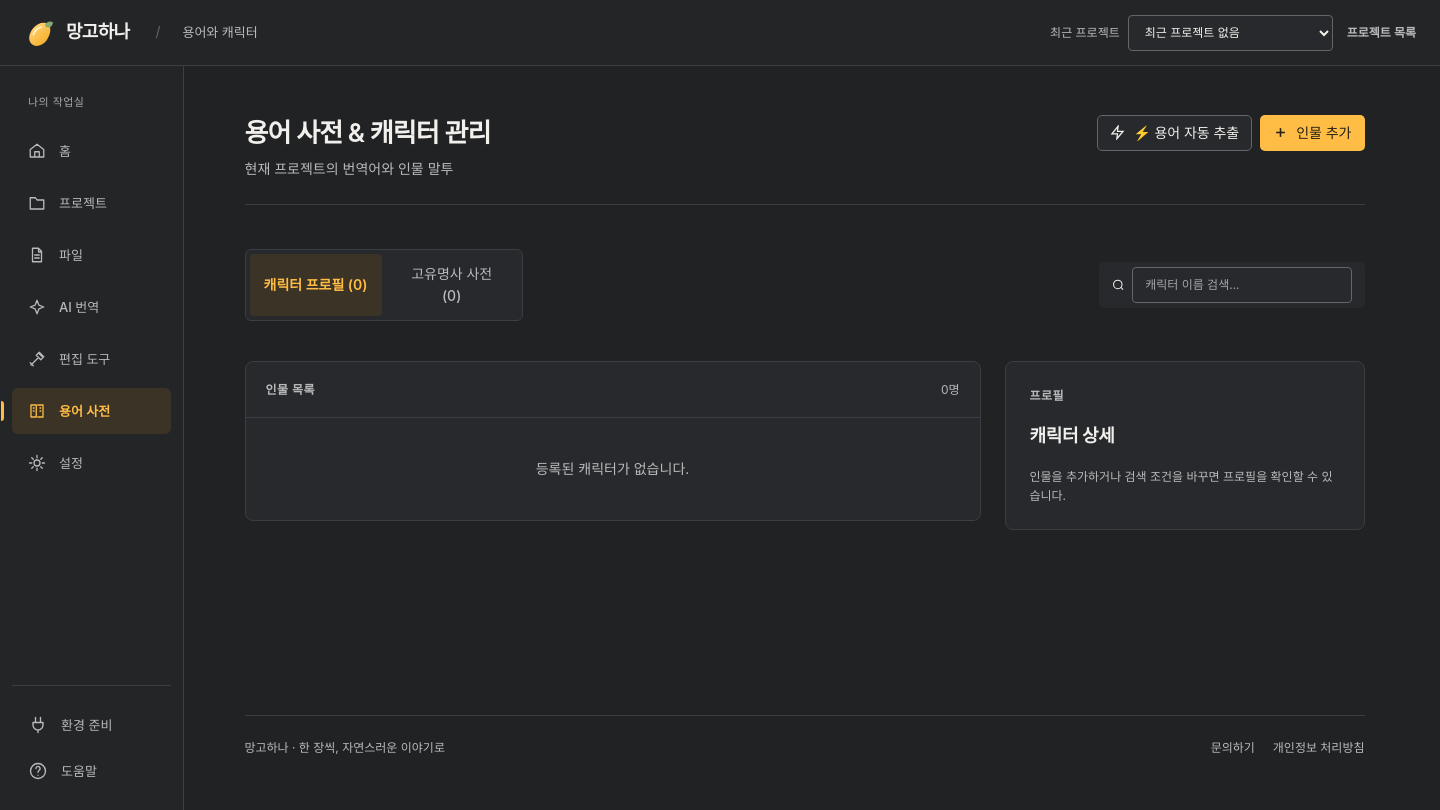
Test: DictionaryPage › switches to glossary terms table and adds a new term with category
This screenshot has width=1440, height=810.
Click the tab "고유명사 사전 (0)": (452,285) x1=386 y1=254 x2=518 y2=316
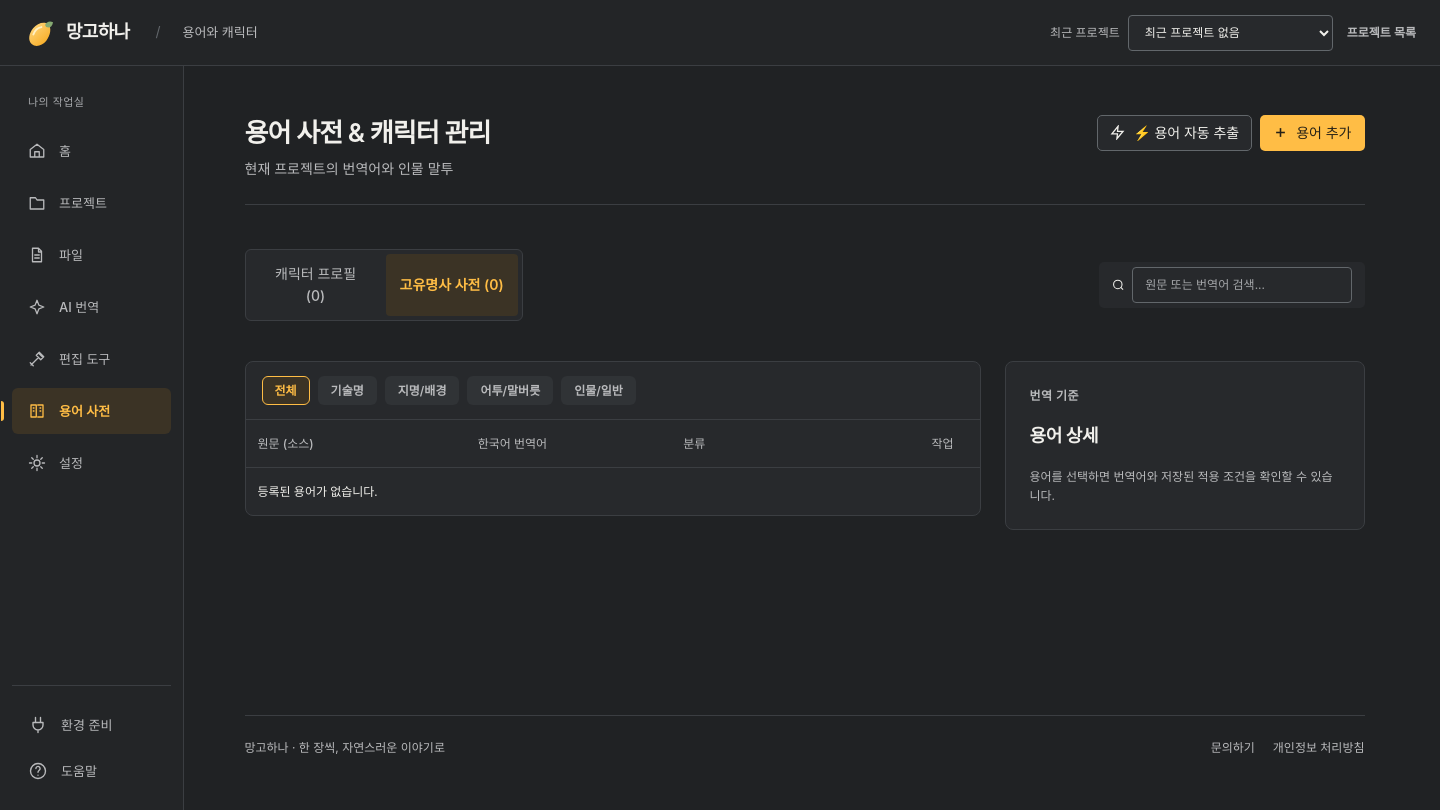
Click the button with aria-label "새 용어 추가": (1312,133) x1=1260 y1=115 x2=1364 y2=151
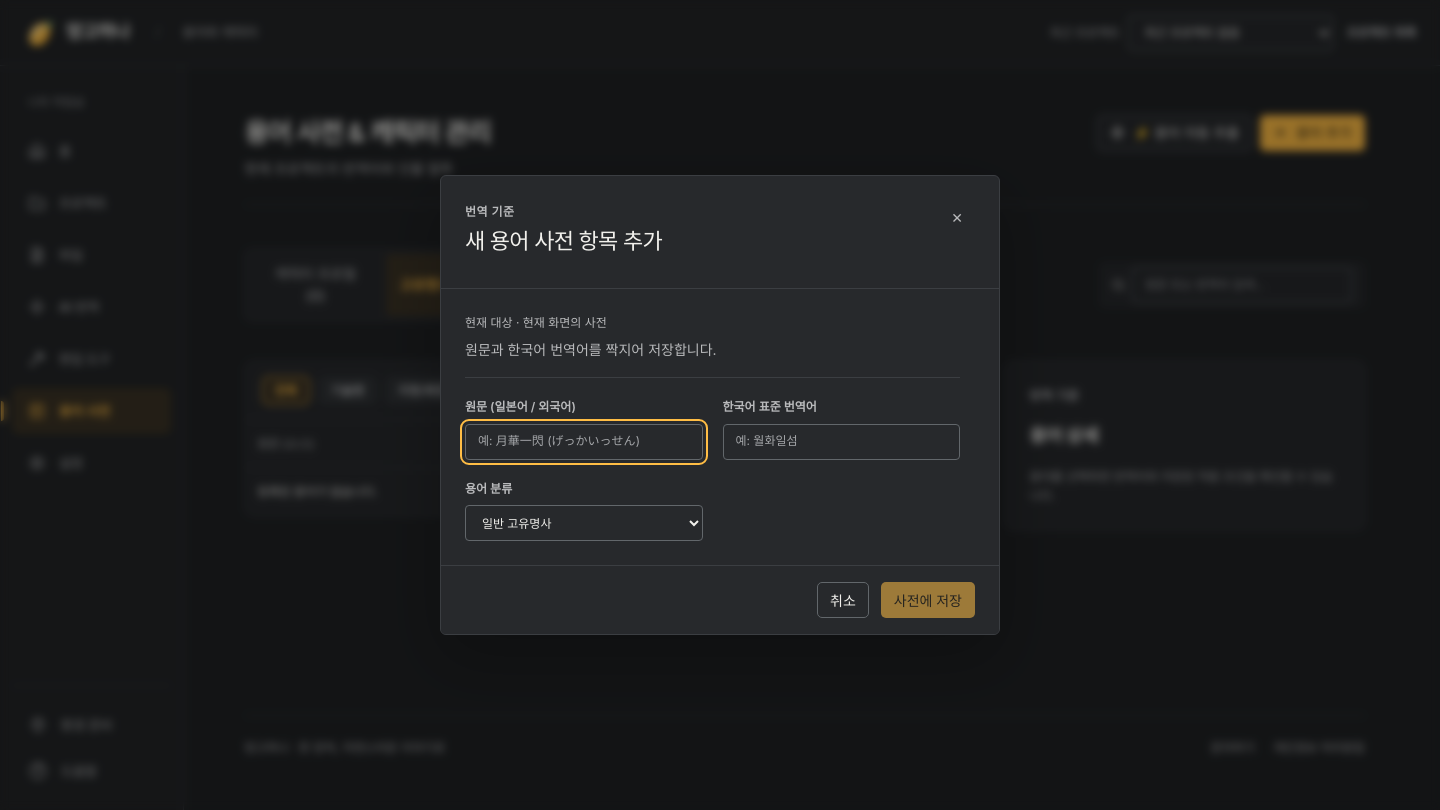
Expected: the dialog "새 용어 사전 항목 추가" is shown, x1=440 y1=175 x2=1000 y2=635
In the field with placeholder "예: 月華一閃 (げっかいっせん)": (584,442) x1=465 y1=424 x2=702 y2=460, type "魔王城"
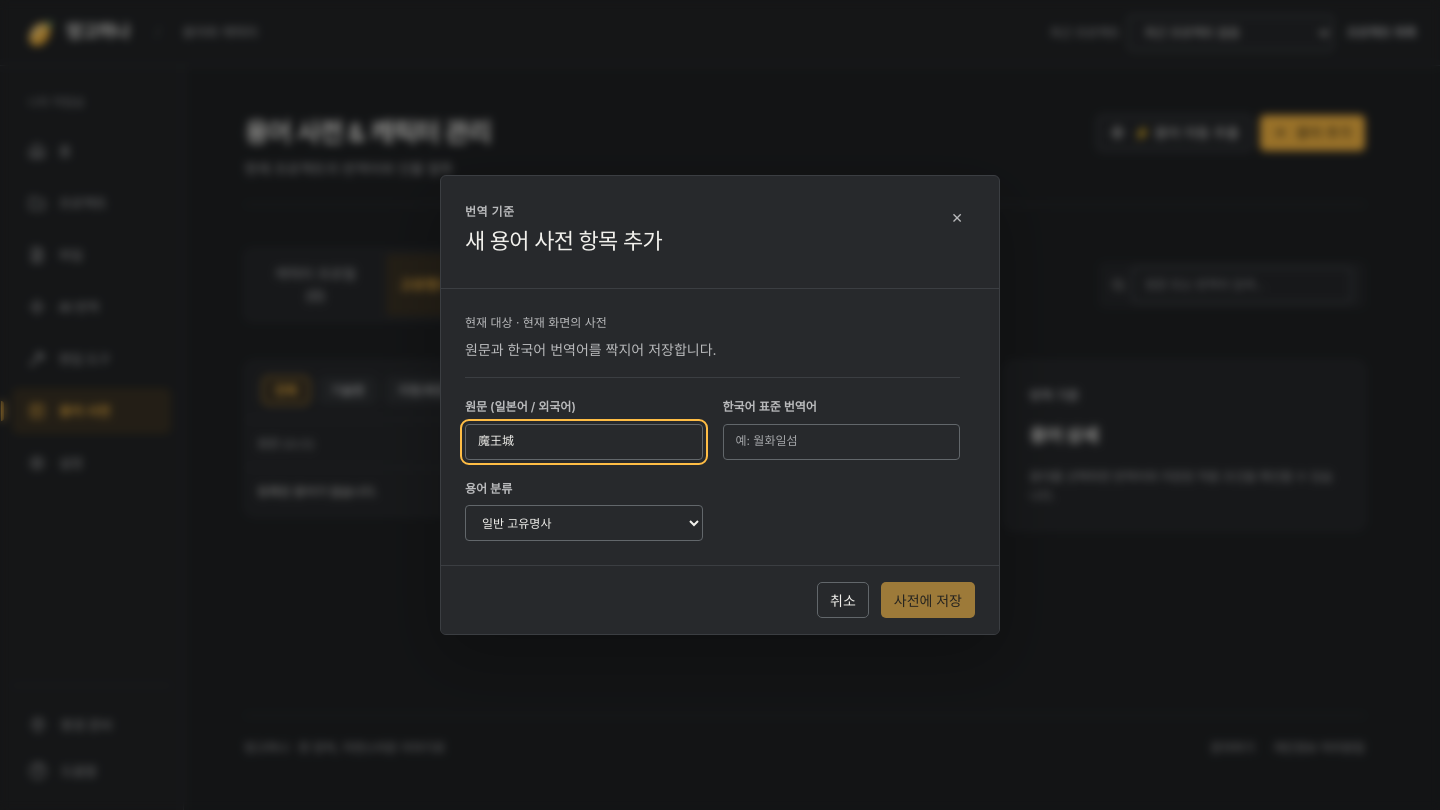
In the field with placeholder "예: 월화일섬": (841,442) x1=722 y1=424 x2=960 y2=460, type "마왕성"
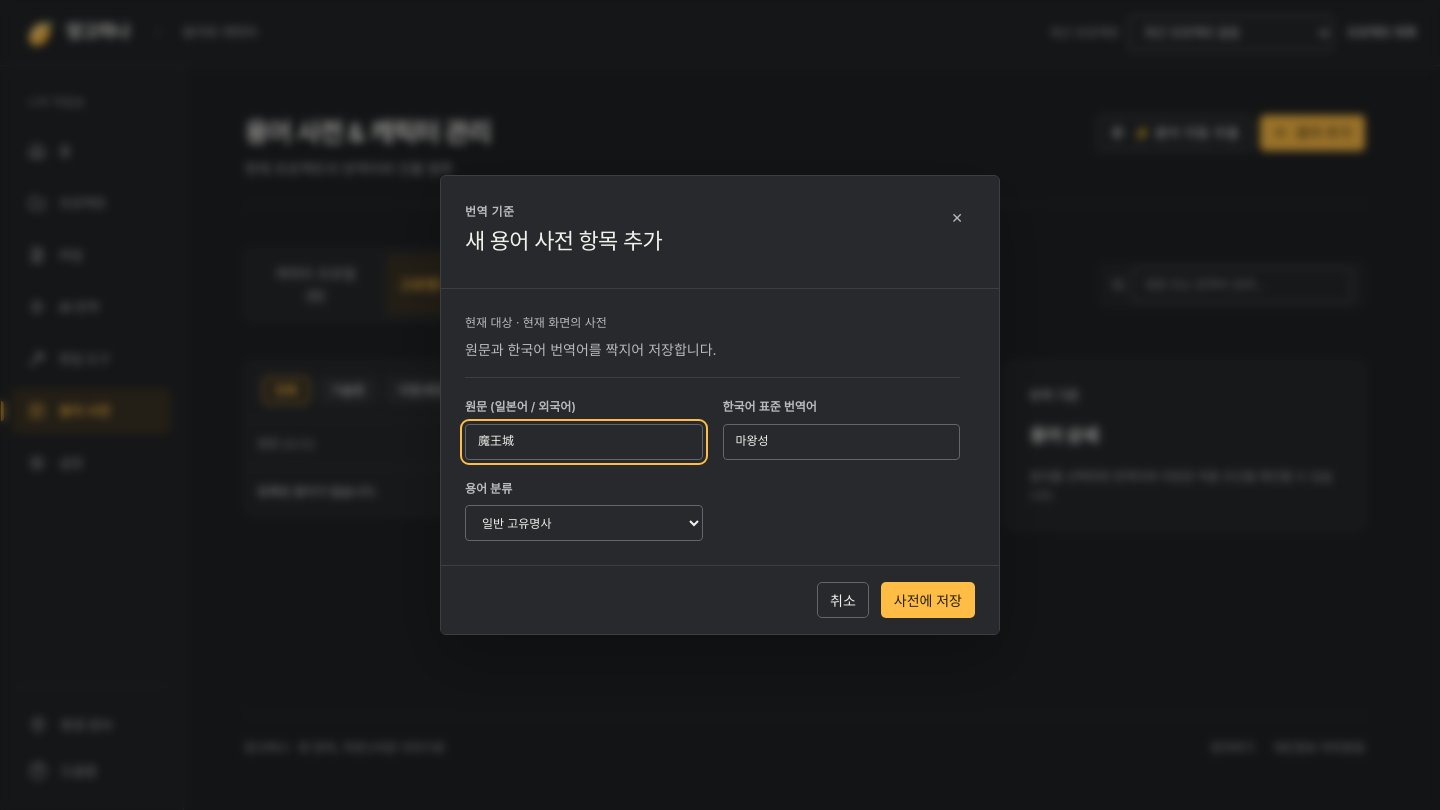
Click the button "사전에 저장": (928,600) x1=881 y1=582 x2=975 y2=618
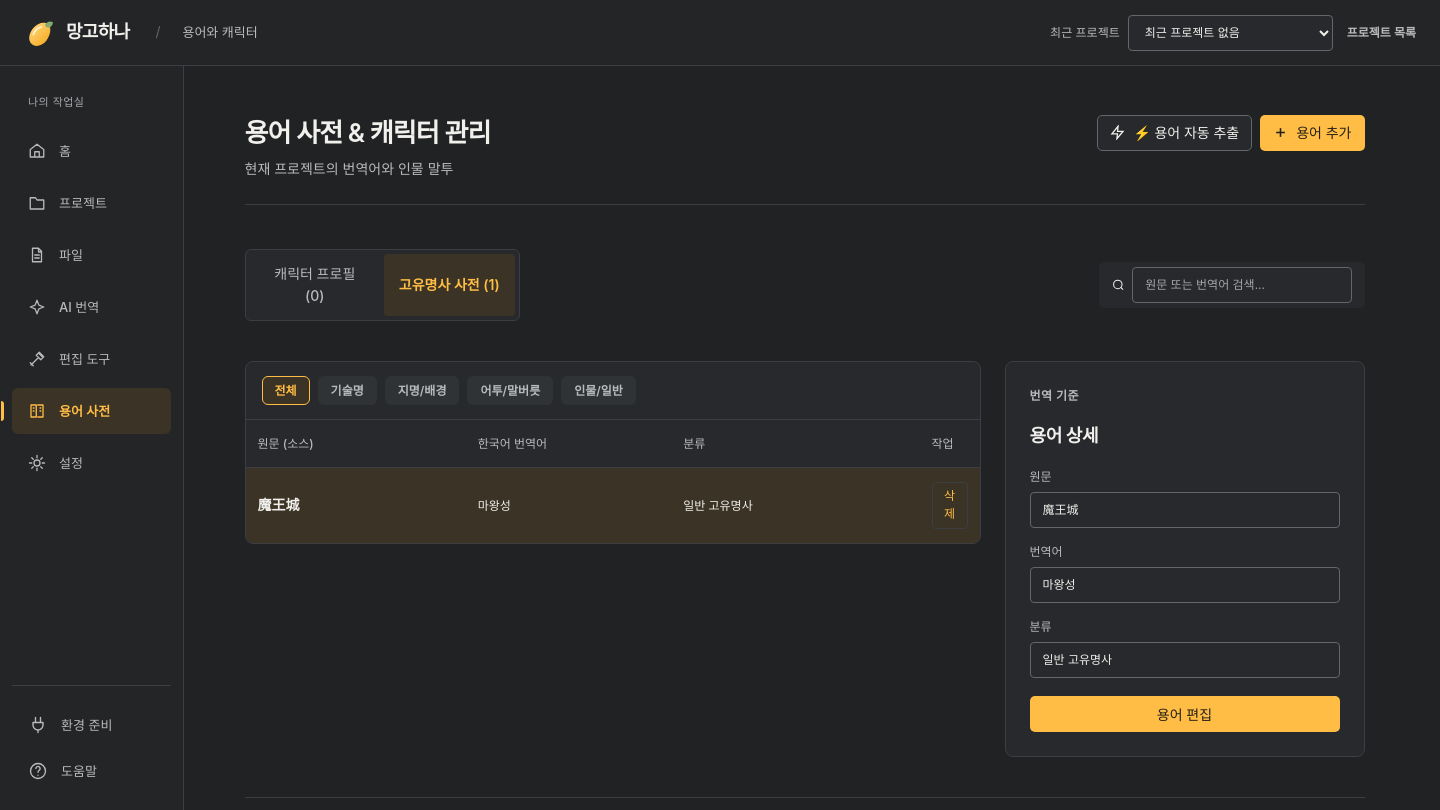
Expected: the dialog is gone
Expected: the button "魔王城" is shown, x1=258 y1=491 x2=300 y2=520
Expected: the text "마왕성" is shown, x1=478 y1=498 x2=511 y2=513
